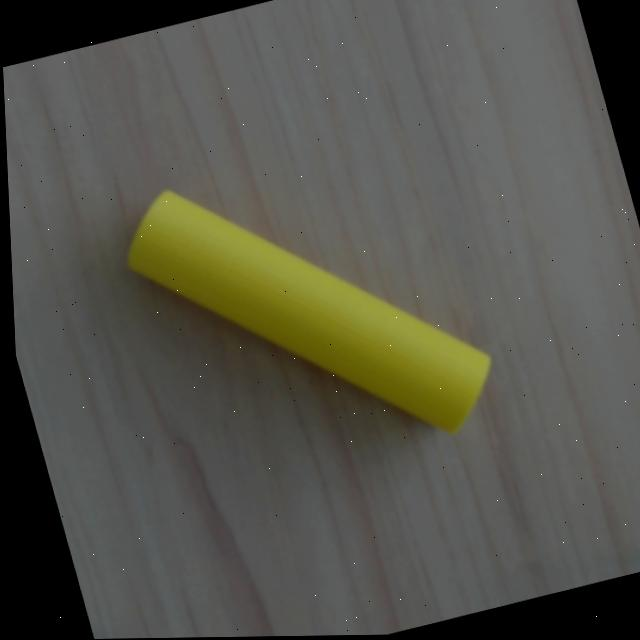Silinder-Kuning-10025: (119, 183, 496, 436)
